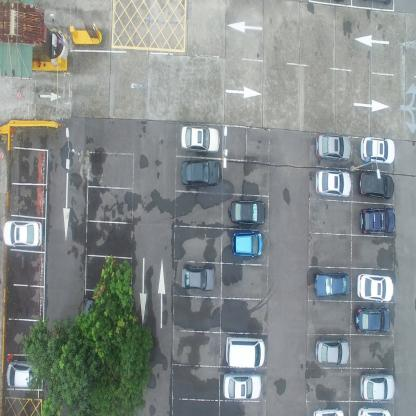car: (225, 334, 266, 370), (180, 158, 220, 188), (180, 125, 220, 155), (2, 220, 44, 248), (359, 205, 396, 235), (357, 272, 394, 302), (354, 304, 391, 334), (223, 371, 261, 400), (359, 372, 395, 402), (83, 297, 120, 326), (315, 133, 351, 162), (315, 168, 351, 197), (358, 171, 394, 200), (314, 336, 350, 365), (180, 263, 216, 292), (5, 360, 39, 389), (360, 136, 395, 164), (229, 197, 265, 224), (314, 272, 350, 298), (230, 227, 262, 256), (356, 405, 392, 415), (312, 405, 344, 415)
